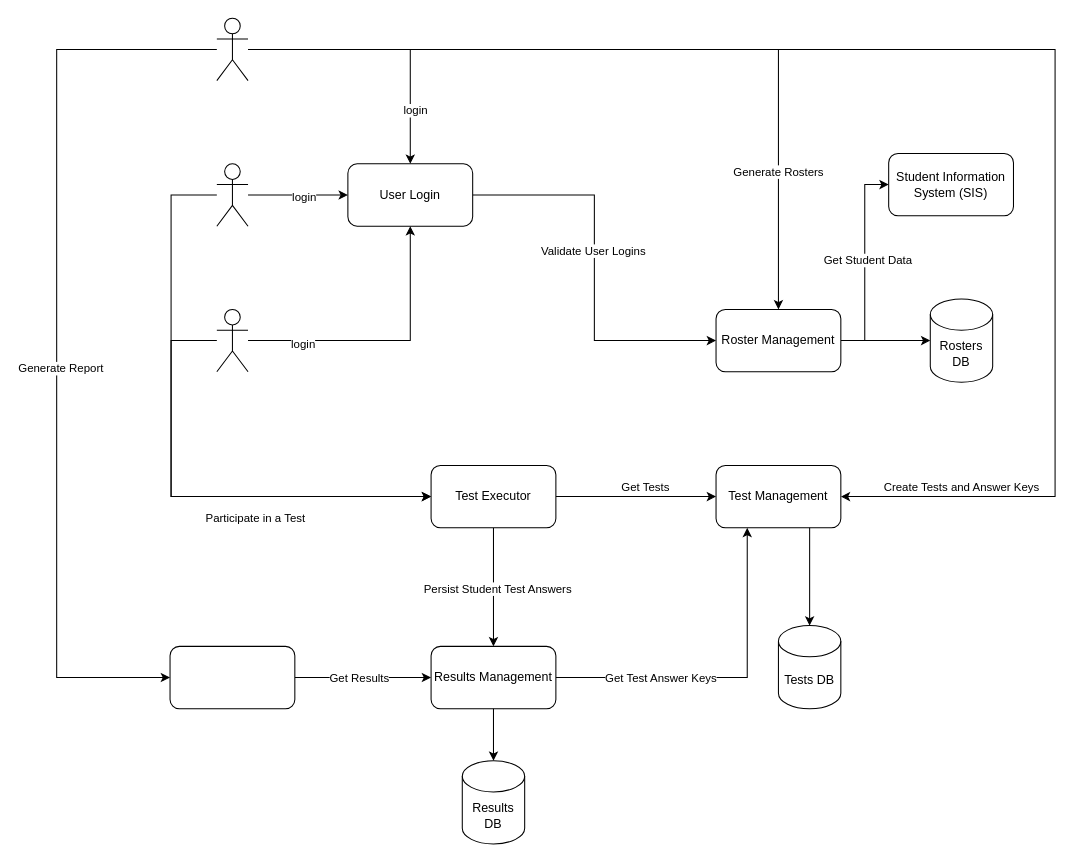
Image size: 1082x862. Some labels were removed from this diagram. Here are the shapes that lost their labels. From the top down, the box of each, then its label:
(216, 17, 248, 81): Admin Staff
(216, 163, 248, 226): Students
(216, 308, 248, 372): Proctors
(169, 645, 295, 709): Report Generator
